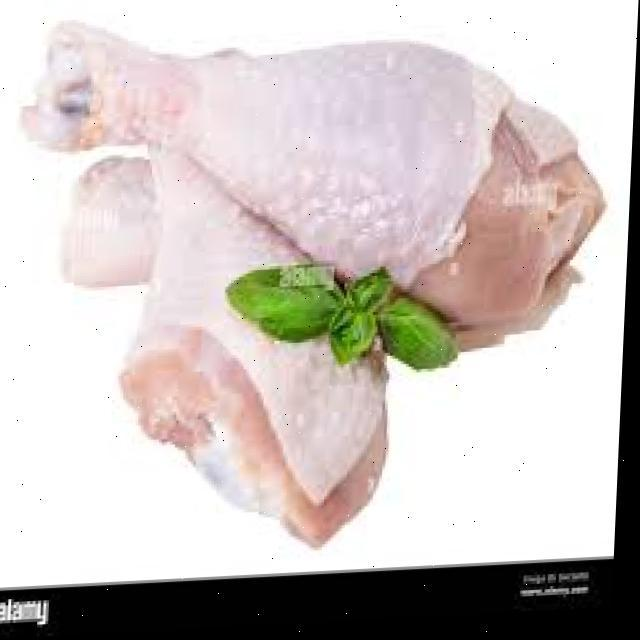leg: (24, 0, 604, 346), (134, 41, 403, 530), (60, 149, 205, 304)
